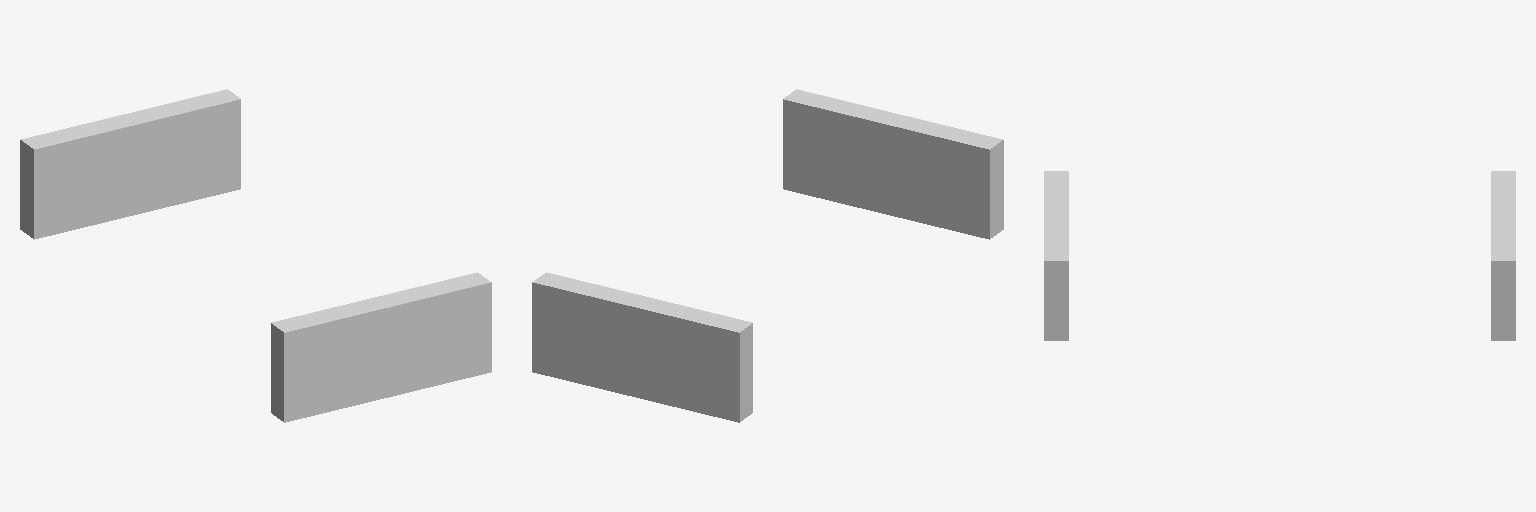
robot.urdf — panda:
<?xml version="1.0" ?>
<!-- =================================================================================== -->
<!-- |    This document was autogenerated by xacro from panda_arm_hand.urdf.xacro      | -->
<!-- |    EDITING THIS FILE BY HAND IS NOT RECOMMENDED                                 | -->
<!-- =================================================================================== -->
<robot name="panda" xmlns:xacro="http://www.ros.org/wiki/xacro">
  <link name="panda_link0">
    <visual>
      <geometry>
        <mesh filename="package://franka_description/meshes/visual/link0.dae"/>
      </geometry>
    </visual>
    <collision>
      <geometry>
        <mesh filename="package://franka_description/meshes/collision/link0.stl"/>
      </geometry>
    </collision>
  </link>
  <link name="panda_link1">
    <visual>
      <geometry>
        <mesh filename="package://franka_description/meshes/visual/link1.dae"/>
      </geometry>
    </visual>
    <collision>
      <geometry>
        <mesh filename="package://franka_description/meshes/collision/link1.stl"/>
      </geometry>
    </collision>
  </link>
  <joint name="panda_joint1" type="revolute">
    <safety_controller k_position="100.0" k_velocity="40.0" soft_lower_limit="-2.8973" soft_upper_limit="2.8973"/>
    <origin rpy="0 0 0" xyz="0 0 0.333"/>
    <parent link="panda_link0"/>
    <child link="panda_link1"/>
    <axis xyz="0 0 1"/>
    <limit effort="87" lower="-2.8973" upper="2.8973" velocity="2.1750"/>
  </joint>
  <link name="panda_link2">
    <visual>
      <geometry>
        <mesh filename="package://franka_description/meshes/visual/link2.dae"/>
      </geometry>
    </visual>
    <collision>
      <geometry>
        <mesh filename="package://franka_description/meshes/collision/link2.stl"/>
      </geometry>
    </collision>
  </link>
  <joint name="panda_joint2" type="revolute">
    <safety_controller k_position="100.0" k_velocity="40.0" soft_lower_limit="-1.7628" soft_upper_limit="1.7628"/>
    <origin rpy="-1.57079632679 0 0" xyz="0 0 0"/>
    <parent link="panda_link1"/>
    <child link="panda_link2"/>
    <axis xyz="0 0 1"/>
    <limit effort="87" lower="-1.7628" upper="1.7628" velocity="2.1750"/>
  </joint>
  <link name="panda_link3">
    <visual>
      <geometry>
        <mesh filename="package://franka_description/meshes/visual/link3.dae"/>
      </geometry>
    </visual>
    <collision>
      <geometry>
        <mesh filename="package://franka_description/meshes/collision/link3.stl"/>
      </geometry>
    </collision>
  </link>
  <joint name="panda_joint3" type="revolute">
    <safety_controller k_position="100.0" k_velocity="40.0" soft_lower_limit="-2.8973" soft_upper_limit="2.8973"/>
    <origin rpy="1.57079632679 0 0" xyz="0 -0.316 0"/>
    <parent link="panda_link2"/>
    <child link="panda_link3"/>
    <axis xyz="0 0 1"/>
    <limit effort="87" lower="-2.8973" upper="2.8973" velocity="2.1750"/>
  </joint>
  <link name="panda_link4">
    <visual>
      <geometry>
        <mesh filename="package://franka_description/meshes/visual/link4.dae"/>
      </geometry>
    </visual>
    <collision>
      <geometry>
        <mesh filename="package://franka_description/meshes/collision/link4.stl"/>
      </geometry>
    </collision>
  </link>
  <joint name="panda_joint4" type="revolute">
    <safety_controller k_position="100.0" k_velocity="40.0" soft_lower_limit="-3.0718" soft_upper_limit="-0.0698"/>
    <origin rpy="1.57079632679 0 0" xyz="0.0825 0 0"/>
    <parent link="panda_link3"/>
    <child link="panda_link4"/>
    <axis xyz="0 0 1"/>
    <limit effort="87" lower="-3.0718" upper="-0.0698" velocity="2.1750"/>
  </joint>
  <link name="panda_link5">
    <visual>
      <geometry>
        <mesh filename="package://franka_description/meshes/visual/link5.dae"/>
      </geometry>
    </visual>
    <collision>
      <geometry>
        <mesh filename="package://franka_description/meshes/collision/link5.stl"/>
      </geometry>
    </collision>
  </link>
  <joint name="panda_joint5" type="revolute">
    <safety_controller k_position="100.0" k_velocity="40.0" soft_lower_limit="-2.8973" soft_upper_limit="2.8973"/>
    <origin rpy="-1.57079632679 0 0" xyz="-0.0825 0.384 0"/>
    <parent link="panda_link4"/>
    <child link="panda_link5"/>
    <axis xyz="0 0 1"/>
    <limit effort="12" lower="-2.8973" upper="2.8973" velocity="2.6100"/>
  </joint>
  <link name="panda_link6">
    <visual>
      <geometry>
        <mesh filename="package://franka_description/meshes/visual/link6.dae"/>
      </geometry>
    </visual>
    <collision>
      <geometry>
        <mesh filename="package://franka_description/meshes/collision/link6.stl"/>
      </geometry>
    </collision>
  </link>
  <joint name="panda_joint6" type="revolute">
    <safety_controller k_position="100.0" k_velocity="40.0" soft_lower_limit="-0.0175" soft_upper_limit="3.7525"/>
    <origin rpy="1.57079632679 0 0" xyz="0 0 0"/>
    <parent link="panda_link5"/>
    <child link="panda_link6"/>
    <axis xyz="0 0 1"/>
    <limit effort="12" lower="-0.0175" upper="3.7525" velocity="2.6100"/>
  </joint>
  <link name="panda_link7">
    <visual>
      <geometry>
        <mesh filename="package://franka_description/meshes/visual/link7.dae"/>
      </geometry>
    </visual>
    <collision>
      <geometry>
        <mesh filename="package://franka_description/meshes/collision/link7.stl"/>
      </geometry>
    </collision>
  </link>
  <joint name="panda_joint7" type="revolute">
    <safety_controller k_position="100.0" k_velocity="40.0" soft_lower_limit="-2.8973" soft_upper_limit="2.8973"/>
    <origin rpy="1.57079632679 0 0" xyz="0.088 0 0"/>
    <parent link="panda_link6"/>
    <child link="panda_link7"/>
    <axis xyz="0 0 1"/>
    <limit effort="12" lower="-2.8973" upper="2.8973" velocity="2.6100"/>
  </joint>
  <link name="panda_link8"/>
  <joint name="panda_joint8" type="fixed">
    <origin rpy="0 0 0" xyz="0 0 0.107"/>
    <parent link="panda_link7"/>
    <child link="panda_link8"/>
    <axis xyz="0 0 0"/>
  </joint>
  <joint name="panda_hand_joint" type="fixed">
    <parent link="panda_link8"/>
    <child link="robotiq_arg2f_coupling"/>
    <origin rpy="0 0 3.1415" xyz="0 0 0"/>
  </joint>
    <link name="robotiq_arg2f_coupling">
        <inertial>
            <origin rpy="0 0 0" xyz="0 0 0"/>
            <mass value="0.05"/>
            <inertia ixx="2E-06" ixy="-4E-10" ixz="-2E-10" iyy="2E-06" iyz="-3E-08" izz="2E-06"/>
        </inertial>
        <visual>
            <origin rpy="0 0 0" xyz="0 0 0"/>
            <geometry>
                <mesh filename="package://franka_description/meshes/robotiq_2f140/visual/robotiq_arg2f_coupling.stl" scale="0.001 0.001 0.001"/>
            </geometry>
            <material name="">
                <color rgba="0.1 0.1 0.1 1"/>
            </material>
        </visual>
        <collision>
            <origin rpy="0 0 0" xyz="0 0 0"/>
            <geometry>
                <mesh filename="package://franka_description/meshes/robotiq_2f140/collision/robotiq_arg2f_coupling.stl" scale="0.001 0.001 0.001"/>
            </geometry>
        </collision>
    </link>
    <link name="robotiq_arg2f_base_link">
        <inertial>
            <origin rpy="0 0 0" xyz="8.625E-08 -4.6583E-06 0.03145"/>
            <mass value="0.22652"/>
            <inertia ixx="0.00020005" ixy="-4.2442E-10" ixz="-2.9069E-10" iyy="0.00017832" iyz="-3.4402E-08"
                     izz="0.00013478"/>
        </inertial>
        <visual>
            <origin rpy="0 0 0" xyz="0 0 0"/>
            <geometry>
                <mesh filename="package://franka_description/meshes/robotiq_2f140/visual/robotiq_arg2f_base_link.stl"/>
            </geometry>
            <material name="">
                <color rgba="0.1 0.1 0.1 1"/>
            </material>
        </visual>
        <collision>
            <origin rpy="0 0 0" xyz="0 0 0"/>
            <geometry>
                <mesh filename="package://franka_description/meshes/robotiq_2f140/collision/robotiq_arg2f_base_link.stl"/>
            </geometry>
        </collision>
    </link>
    <link name="left_outer_knuckle">
        <inertial>
            <origin rpy="0 0 0" xyz="-0.000200000000003065 0.0199435877845359 0.0292245259211331"/>
            <mass value="0.00853198276973456"/>
            <inertia ixx="2.89328108496468E-06" ixy="-1.57935047237397E-19" ixz="-1.93980378593255E-19"
                     iyy="1.86719750325683E-06" iyz="-1.21858577871576E-06" izz="1.21905238907251E-06"/>
        </inertial>
        <visual>
            <origin rpy="0 0 0" xyz="0 0 0"/>
            <geometry>
                <mesh filename="package://franka_description/meshes/robotiq_2f140/visual/robotiq_arg2f_140_outer_knuckle.stl"/>
            </geometry>
            <material name="">
                <color rgba="0.792156862745098 0.819607843137255 0.933333333333333 1"/>
            </material>
        </visual>
        <collision>
            <origin rpy="0 0 0" xyz="0 0 0"/>
            <geometry>
                <mesh filename="package://franka_description/meshes/robotiq_2f140/collision/robotiq_arg2f_140_outer_knuckle.stl"/>
            </geometry>
        </collision>
    </link>
    <link name="left_outer_finger">
        <inertial>
            <origin rpy="0 0 0" xyz="0.00030115855001899 0.0373907951953854 -0.0208027427000385"/>
            <mass value="0.022614240507152"/>
            <inertia ixx="1.52518312458174E-05" ixy="9.76583423954399E-10" ixz="-5.43838577022588E-10"
                     iyy="6.17694243867776E-06" iyz="6.78636130740228E-06" izz="1.16494917907219E-05"/>
        </inertial>
        <visual>
            <origin rpy="0 0 0" xyz="0 0 0"/>
            <geometry>
                <mesh filename="package://franka_description/meshes/robotiq_2f140/visual/robotiq_arg2f_140_outer_finger.stl"/>
            </geometry>
            <material name="">
                <color rgba="0.1 0.1 0.1 1"/>
            </material>
        </visual>
        <collision>
            <origin rpy="0 0 0" xyz="0 0 0"/>
            <geometry>
                <mesh filename="package://franka_description/meshes/robotiq_2f140/collision/robotiq_arg2f_140_outer_finger.stl"/>
            </geometry>
        </collision>
    </link>
    <link name="left_inner_finger">
        <inertial>
            <origin rpy="0 0 0" xyz="0.000299999999999317 0.0160078233491243 -0.0136945669206257"/>
            <mass value="0.0104003125914103"/>
            <inertia ixx="2.71909453810972E-06" ixy="1.35402465472579E-21" ixz="-7.1817349065269E-22"
                     iyy="7.69100314106116E-07" iyz="6.74715432769696E-07" izz="2.30315190420171E-06"/>
        </inertial>
        <visual>
            <origin rpy="0 0 0" xyz="0 0 0"/>
            <geometry>
                <mesh filename="package://franka_description/meshes/robotiq_2f140/visual/robotiq_arg2f_140_inner_finger.stl"/>
            </geometry>
            <material name="">
                <color rgba="0.1 0.1 0.1 1"/>
            </material>
        </visual>
        <collision>
            <origin rpy="0 0 0" xyz="0 0 0"/>
            <geometry>
                <mesh filename="package://franka_description/meshes/robotiq_2f140/collision/robotiq_arg2f_140_inner_finger.stl"/>
            </geometry>
        </collision>
    </link>
    <link name="left_inner_finger_pad">
        <visual>
            <origin rpy="0 0 0" xyz="0 0 0"/>
            <geometry>
                <box size="0.027 0.065 0.0075"/>
            </geometry>
            <material name="">
                <color rgba="0.9 0.9 0.9 1"/>
            </material>
        </visual>
        <collision>
            <origin rpy="0 0 0" xyz="0 0 0"/>
            <geometry>
                <box size="0.03 0.07 0.0075"/>
            </geometry>
            <material name="">
                <color rgba="0.9 0.0 0.0 1"/>
            </material>
        </collision>
    </link>
    <link name="left_inner_knuckle">
        <inertial>
            <origin rpy="0 0 0" xyz="0.000123011831763771 0.0507850843201817 0.00103968640075166"/>
            <mass value="0.0271177346495152"/>
            <inertia ixx="2.61910379223783E-05" ixy="-2.43616858946494E-07" ixz="-6.37789906117123E-09"
                     iyy="2.8270243746167E-06" iyz="-5.37200748039765E-07" izz="2.83695868220296E-05"/>
        </inertial>
        <visual>
            <origin rpy="0 0 0" xyz="0 0 0"/>
            <geometry>
                <mesh filename="package://franka_description/meshes/robotiq_2f140/visual/robotiq_arg2f_140_inner_knuckle.stl"/>
            </geometry>
            <material name="">
                <color rgba="0.1 0.1 0.1 1"/>
            </material>
        </visual>
        <collision>
            <origin rpy="0 0 0" xyz="0 0 0"/>
            <geometry>
                <mesh filename="package://franka_description/meshes/robotiq_2f140/collision/robotiq_arg2f_140_inner_knuckle.stl"/>
            </geometry>
        </collision>
    </link>
    <link name="right_outer_knuckle">
        <inertial>
            <origin rpy="0 0 0" xyz="-0.000200000000003065 0.0199435877845359 0.0292245259211331"/>
            <mass value="0.00853198276973456"/>
            <inertia ixx="2.89328108496468E-06" ixy="-1.57935047237397E-19" ixz="-1.93980378593255E-19"
                     iyy="1.86719750325683E-06" iyz="-1.21858577871576E-06" izz="1.21905238907251E-06"/>
        </inertial>
        <visual>
            <origin rpy="0 0 0" xyz="0 0 0"/>
            <geometry>
                <mesh filename="package://franka_description/meshes/robotiq_2f140/visual/robotiq_arg2f_140_outer_knuckle.stl"/>
            </geometry>
            <material name="">
                <color rgba="0.792156862745098 0.819607843137255 0.933333333333333 1"/>
            </material>
        </visual>
        <collision>
            <origin rpy="0 0 0" xyz="0 0 0"/>
            <geometry>
                <mesh filename="package://franka_description/meshes/robotiq_2f140/collision/robotiq_arg2f_140_outer_knuckle.stl"/>
            </geometry>
        </collision>
    </link>
    <link name="right_outer_finger">
        <inertial>
            <origin rpy="0 0 0" xyz="0.00030115855001899 0.0373907951953854 -0.0208027427000385"/>
            <mass value="0.022614240507152"/>
            <inertia ixx="1.52518312458174E-05" ixy="9.76583423954399E-10" ixz="-5.43838577022588E-10"
                     iyy="6.17694243867776E-06" iyz="6.78636130740228E-06" izz="1.16494917907219E-05"/>
        </inertial>
        <visual>
            <origin rpy="0 0 0" xyz="0 0 0"/>
            <geometry>
                <mesh filename="package://franka_description/meshes/robotiq_2f140/visual/robotiq_arg2f_140_outer_finger.stl"/>
            </geometry>
            <material name="">
                <color rgba="0.1 0.1 0.1 1"/>
            </material>
        </visual>
        <collision>
            <origin rpy="0 0 0" xyz="0 0 0"/>
            <geometry>
                <mesh filename="package://franka_description/meshes/robotiq_2f140/collision/robotiq_arg2f_140_outer_finger.stl"/>
            </geometry>
        </collision>
    </link>
    <link name="right_inner_finger">
        <inertial>
            <origin rpy="0 0 0" xyz="0.000299999999999317 0.0160078233491243 -0.0136945669206257"/>
            <mass value="0.0104003125914103"/>
            <inertia ixx="2.71909453810972E-06" ixy="1.35402465472579E-21" ixz="-7.1817349065269E-22"
                     iyy="7.69100314106116E-07" iyz="6.74715432769696E-07" izz="2.30315190420171E-06"/>
        </inertial>
        <visual>
            <origin rpy="0 0 0" xyz="0 0 0"/>
            <geometry>
                <mesh filename="package://franka_description/meshes/robotiq_2f140/visual/robotiq_arg2f_140_inner_finger.stl"/>
            </geometry>
            <material name="">
                <color rgba="0.1 0.1 0.1 1"/>
            </material>
        </visual>
        <collision>
            <origin rpy="0 0 0" xyz="0 0 0"/>
            <geometry>
                <mesh filename="package://franka_description/meshes/robotiq_2f140/collision/robotiq_arg2f_140_inner_finger.stl"/>
            </geometry>
        </collision>
    </link>
    <link name="right_inner_finger_pad">
        <visual>
            <origin rpy="0 0 0" xyz="0 0 0"/>
            <geometry>
                <box size="0.027 0.065 0.0075"/>
            </geometry>
            <material name="">
                <color rgba="0.9 0.9 0.9 1"/>
            </material>
        </visual>
        <collision>
            <origin rpy="0 0 0" xyz="0 0 0"/>
            <geometry>
                <box size="0.03 0.07 0.0075"/>
            </geometry>
            <material name="">
                <color rgba="0.9 0.0 0.0 1"/>
            </material>
        </collision>
    </link>
    <link name="right_inner_knuckle">
        <inertial>
            <origin rpy="0 0 0" xyz="0.000123011831763771 0.0507850843201817 0.00103968640075166"/>
            <mass value="0.0271177346495152"/>
            <inertia ixx="2.61910379223783E-05" ixy="-2.43616858946494E-07" ixz="-6.37789906117123E-09"
                     iyy="2.8270243746167E-06" iyz="-5.37200748039765E-07" izz="2.83695868220296E-05"/>
        </inertial>
        <visual>
            <origin rpy="0 0 0" xyz="0 0 0"/>
            <geometry>
                <mesh filename="package://franka_description/meshes/robotiq_2f140/visual/robotiq_arg2f_140_inner_knuckle.stl"/>
            </geometry>
            <material name="">
                <color rgba="0.1 0.1 0.1 1"/>
            </material>
        </visual>
        <collision>
            <origin rpy="0 0 0" xyz="0 0 0"/>
            <geometry>
                <mesh filename="package://franka_description/meshes/robotiq_2f140/collision/robotiq_arg2f_140_inner_knuckle.stl"/>
            </geometry>
        </collision>
    </link>
    <joint name="finger_joint" type="revolute">
        <origin rpy="2.29579632679 0 0" xyz="0 -0.030601 0.054905"/>
        <parent link="robotiq_arg2f_base_link"/>
        <child link="left_outer_knuckle"/>
        <axis xyz="-1 0 0"/>
        <limit effort="1000" lower="0" upper="0.7" velocity="2.0"/>
    </joint>
    <joint name="left_outer_finger_joint" type="fixed">
        <origin rpy="0 0 0" xyz="0 0.01821998610742 0.0260018192872234"/>
        <parent link="left_outer_knuckle"/>
        <child link="left_outer_finger"/>
        <axis xyz="1 0 0"/>
    </joint>
    <joint name="left_inner_knuckle_joint" type="revolute">
        <origin rpy="2.29579632679 0 0.0" xyz="0 -0.0127 0.06142"/>
        <parent link="robotiq_arg2f_base_link"/>
        <child link="left_inner_knuckle"/>
        <axis xyz="1 0 0"/>
        <limit effort="1000" lower="-0.8757" upper="0.8757" velocity="2.0"/>
        <mimic joint="finger_joint" multiplier="-1" offset="0"/>
    </joint>
    <joint name="left_inner_finger_joint" type="revolute">
        <origin rpy="-0.725 0 0" xyz="0 0.0817554015893473 -0.0282203446692936"/>
        <parent link="left_outer_finger"/>
        <child link="left_inner_finger"/>
        <axis xyz="1 0 0"/>
        <limit effort="1000" lower="-0.8757" upper="0.8757" velocity="2.0"/>
        <mimic joint="finger_joint" multiplier="1" offset="0"/>
    </joint>
    <joint name="left_inner_finger_pad_joint" type="fixed">
        <origin rpy="0 0 0" xyz="0 0.0457554015893473 -0.0272203446692936"/>
        <parent link="left_inner_finger"/>
        <child link="left_inner_finger_pad"/>
        <axis xyz="0 0 1"/>
    </joint>
    <joint name="right_outer_knuckle_joint" type="revolute">
        <origin rpy="2.29579632679 0 3.14159265359" xyz="0 0.030601 0.054905"/>
        <parent link="robotiq_arg2f_base_link"/>
        <child link="right_outer_knuckle"/>
        <axis xyz="1 0 0"/>
        <limit effort="1000" lower="-0.725" upper="0.725" velocity="2.0"/>
        <mimic joint="finger_joint" multiplier="-1" offset="0"/>
    </joint>
    <joint name="right_outer_finger_joint" type="fixed">
        <origin rpy="0 0 0" xyz="0 0.01821998610742 0.0260018192872234"/>
        <parent link="right_outer_knuckle"/>
        <child link="right_outer_finger"/>
        <axis xyz="1 0 0"/>
    </joint>
    <joint name="right_inner_knuckle_joint" type="revolute">
        <origin rpy="2.29579632679 0 -3.14159265359" xyz="0 0.0127 0.06142"/>
        <parent link="robotiq_arg2f_base_link"/>
        <child link="right_inner_knuckle"/>
        <axis xyz="1 0 0"/>
        <limit effort="1000" lower="-0.8757" upper="0.8757" velocity="2.0"/>
        <mimic joint="finger_joint" multiplier="-1" offset="0"/>
    </joint>
    <joint name="right_inner_finger_joint" type="revolute">
        <origin rpy="-0.725 0 0" xyz="0 0.0817554015893473 -0.0282203446692936"/>
        <parent link="right_outer_finger"/>
        <child link="right_inner_finger"/>
        <axis xyz="1 0 0"/>
        <limit effort="1000" lower="-0.8757" upper="0.8757" velocity="2.0"/>
        <mimic joint="finger_joint" multiplier="1" offset="0"/>
    </joint>
    <joint name="right_inner_finger_pad_joint" type="fixed">
        <origin rpy="0 0 0" xyz="0 0.0457554015893473 -0.0272203446692936"/>
        <parent link="right_inner_finger"/>
        <child link="right_inner_finger_pad"/>
        <axis xyz="0 0 1"/>
    </joint>
    <transmission name="finger_joint_trans">
        <type>transmission_interface/SimpleTransmission</type>
        <joint name="finger_joint">
            <hardwareInterface>hardware_interface/PositionJointInterface</hardwareInterface>
        </joint>
        <actuator name="finger_joint_motor">
            <mechanicalReduction>1</mechanicalReduction>
        </actuator>
    </transmission>
    <gazebo>
        <!-- loading plugin: mimic joints works in gazebo now-->
        <plugin filename="libroboticsgroup_gazebo_mimic_joint_plugin.so" name="mimic_robotiq_140_4">
            <joint>finger_joint</joint>
            <mimicJoint>right_outer_knuckle_joint</mimicJoint>
            <multiplier>-1.0</multiplier>
        </plugin>
        <plugin filename="libroboticsgroup_gazebo_mimic_joint_plugin.so" name="mimic_robotiq_140_2">
            <joint>finger_joint</joint>
            <mimicJoint>left_inner_finger_joint</mimicJoint>
            <multiplier>1.0</multiplier>
            <!--<offset>0.0</offset>-->
        </plugin>
        <plugin filename="libroboticsgroup_gazebo_mimic_joint_plugin.so" name="mimic_robotiq_140_1">
            <joint>finger_joint</joint>
            <mimicJoint>right_inner_finger_joint</mimicJoint>
            <multiplier>1.0</multiplier>
        </plugin>
        <plugin filename="libroboticsgroup_gazebo_mimic_joint_plugin.so" name="mimic_robotiq_140_3">
            <joint>finger_joint</joint>
            <mimicJoint>left_inner_knuckle_joint</mimicJoint>
            <multiplier>-1.0</multiplier>
        </plugin>
        <plugin filename="libroboticsgroup_gazebo_mimic_joint_plugin.so" name="mimic_robotiq_140_5">
            <joint>finger_joint</joint>
            <mimicJoint>right_inner_knuckle_joint</mimicJoint>
            <multiplier>-1.0</multiplier>
        </plugin>
    </gazebo>
    <joint name="base_coupling" type="fixed">
        <origin rpy="0 0 0" xyz="0 0 0"/>
        <parent link="robotiq_arg2f_coupling"/>
        <child link="robotiq_arg2f_base_link"/>
    </joint>
    <link name="panda_grasptarget">
 <inertial>
      <origin rpy="0 0 0" xyz="0 0 0"/>
       <mass value="0.0"/>
       <inertia ixx="0.1" ixy="0" ixz="0" iyy="0.1" iyz="0" izz="0.1"/>
    </inertial>
   </link>
    <joint name="panda_grasptarget_hand" type="fixed">
        <parent link="panda_link8"/>
        <child link="panda_grasptarget"/>
        <!--  just an estimation, not an accurate value-->
        <origin rpy="0.0 0.0 0.0" xyz=" 0.00 0.0 0.23"/>
    </joint>
</robot>

--- Facts derived from the render (not from the file) ---
3 views of the same robot in one strip: view 1: azimuth 30°, elevation 25°; view 2: azimuth 150°, elevation 25°; view 3: azimuth 270°, elevation 25° (orthographic).
Model panda with 22 links and 21 joints (13 revolute, 8 fixed), rooted at panda_link0, posed all joints at 0 but 1 set to mid-range because 0 is outside their limits (panda_joint4 = -1.57).
Links seen in each view (by area): view 1: left_inner_finger_pad, right_inner_finger_pad; view 2: left_inner_finger_pad, right_inner_finger_pad; view 3: left_inner_finger_pad, right_inner_finger_pad.
Boxes of the visible links, box(x1,y1,x2,y2) form: left_inner_finger_pad: box(271, 272, 491, 422); right_inner_finger_pad: box(20, 89, 240, 239); left_inner_finger_pad: box(783, 89, 1003, 239); right_inner_finger_pad: box(532, 272, 752, 422); left_inner_finger_pad: box(1044, 171, 1068, 340); right_inner_finger_pad: box(1491, 171, 1515, 340).
Size in the robot's own frame: 0.065 by 0.1435 by 0.027 metres.
Meshes: 14 distinct files referenced, 0 mesh visuals loaded (none loaded); not drawn: 18 (reference not matched to a file when rendering).